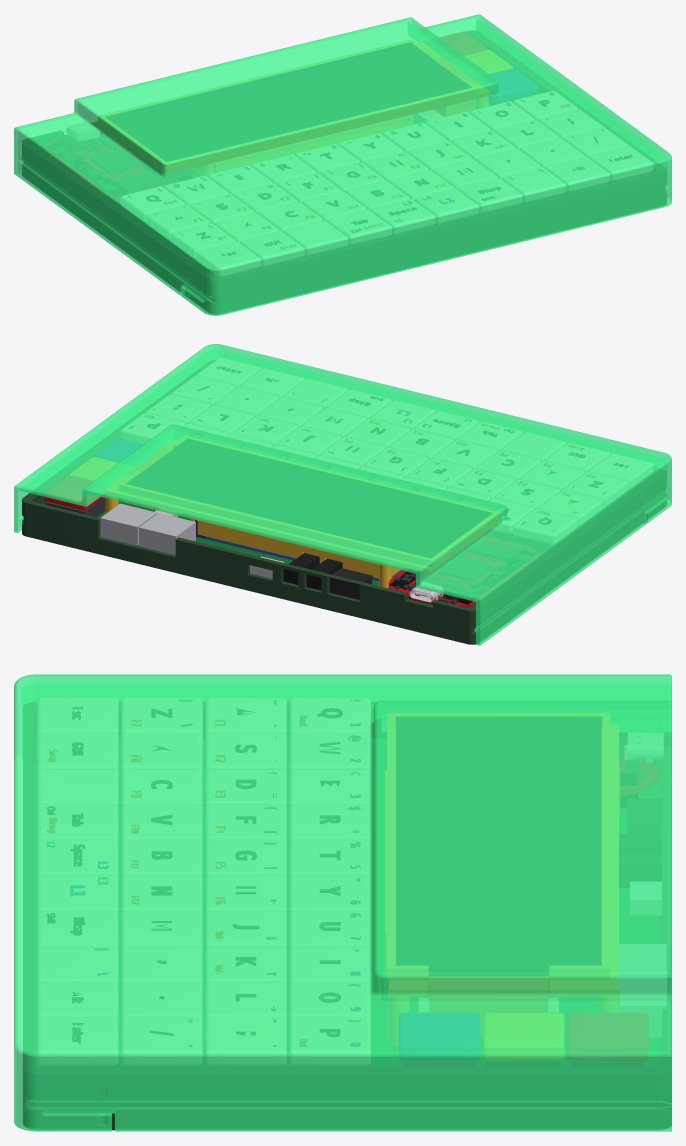
File: cover_forest.glb
3 renders of one model, top to bottom at view 1: azimuth 30°, elevation 25°; view 2: azimuth 150°, elevation 25°; view 3: azimuth 270°, elevation 25°, orthographic. The views are drawn at different scales.
Parts seen in each view (by area): view 1: Lid, Internals, Tray; view 2: Lid, Internals, Tray; view 3: Lid, Internals, Tray.
Part boxes in pixels (x1,y1,x2,y2): Lid: [14, 14, 671, 315]; Internals: [45, 32, 652, 276]; Tray: [22, 31, 665, 314]; Lid: [14, 344, 671, 645]; Internals: [44, 358, 652, 607]; Tray: [22, 361, 665, 644]; Lid: [14, 674, 671, 1131]; Internals: [36, 698, 666, 1065]; Tray: [23, 702, 671, 1130].
Size of the model in its own units: 0.1818 by 0.0232 by 0.133.
